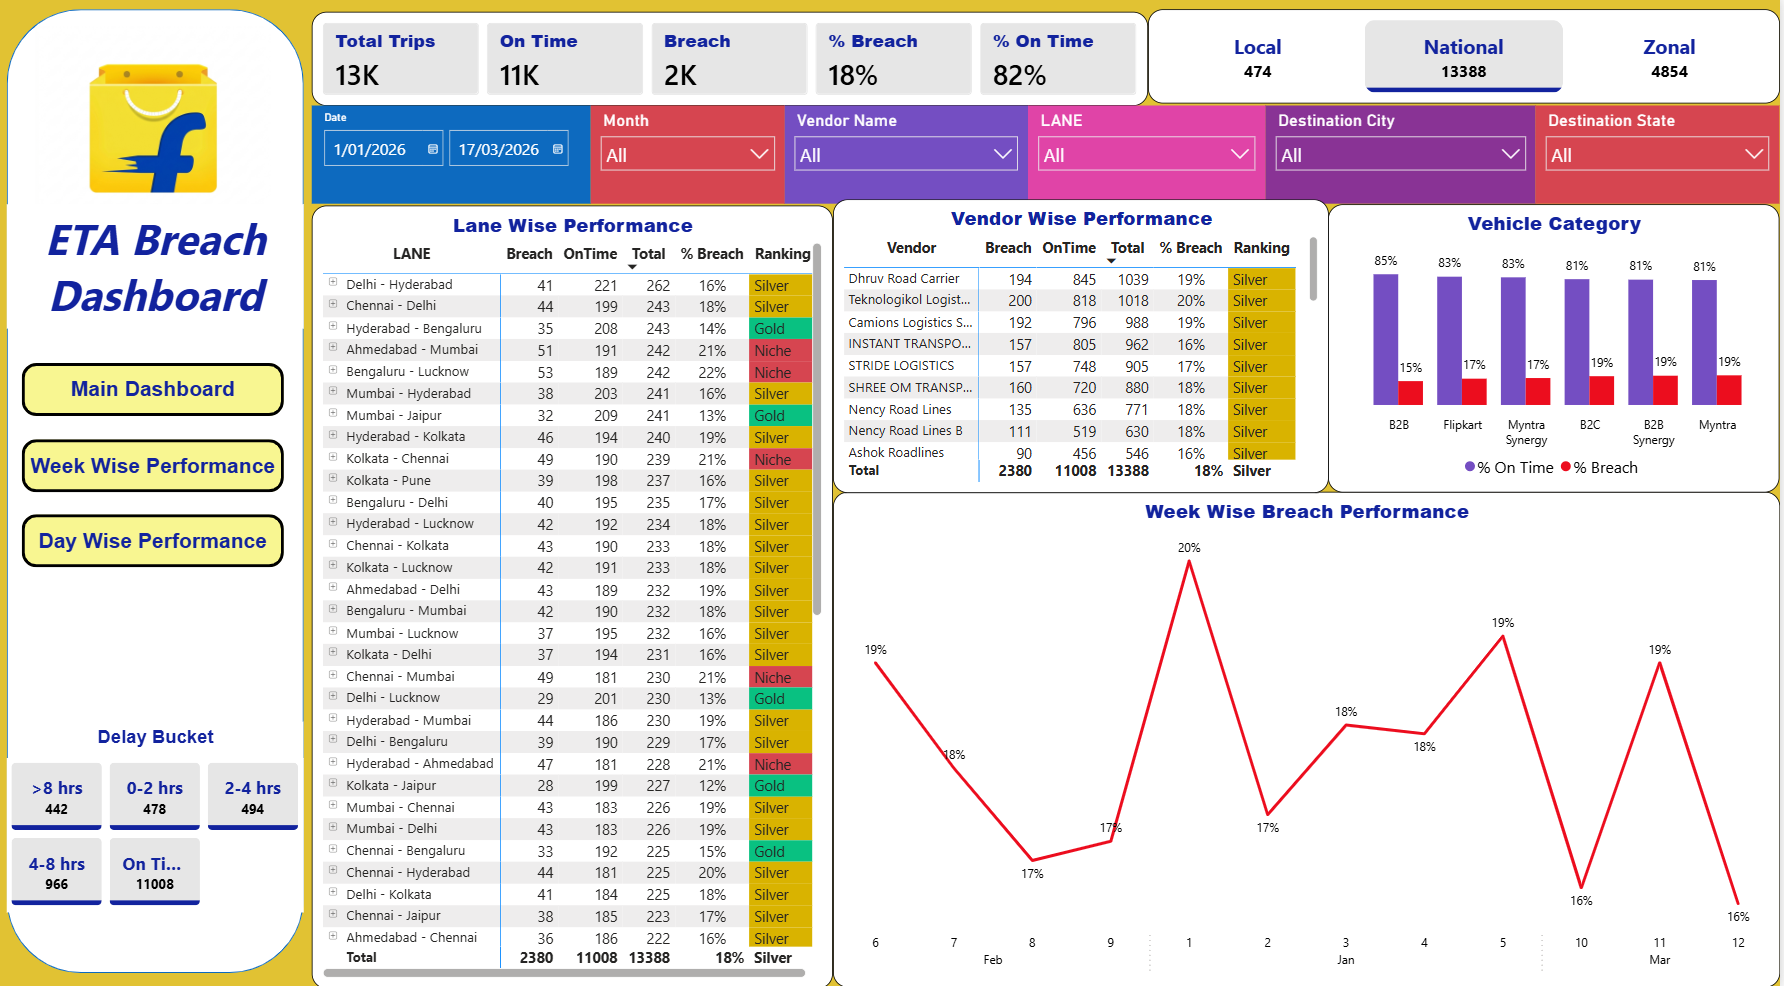

What the dashboard file says about the page in this screenshot:
{"tool":"powerbi","page":{"name":"ETA Breach ","canvas":[1800,1000],"ordinal":0},"visuals":[{"type":"cardVisual","fields":{"Data":["All Measures.Total Trips","All Measures.OnTime Count","All Measures.Breach count","All Measures.% Breach","All Measures.% On Time"]},"box":[316.7,13.4,844.5,95.5],"z":0},{"type":"pivotTable","title":"Vendor Wise Performance","fields":{"Values":["All Measures.Breach count","All Measures.OnTime Count","CountNonNull(ETA Raw Data.Trip ID)","All Measures.% Breach","All Measures.Ranking"],"Rows":["ETA Raw Data.Vendor "]},"box":[861.3,460.8,467.5,539.5],"z":1000},{"type":"pivotTable","title":"Lane Wise Performance","fields":{"Values":["All Measures.Breach count","All Measures.OnTime Count","CountNonNull(ETA Raw Data.Trip ID)","All Measures.% Breach","All Measures.Ranking"],"Rows":["ETA Raw Data.lane -1","ETA Raw Data.Vendor "]},"box":[316.7,460.8,541.2,539.5],"z":2000},{"type":"columnChart","title":"Month Wise Performance","fields":{"Category":["Calendar.Date.Variation.Date Hierarchy.Month","Calendar.Date.Variation.Date Hierarchy.Year"],"Y":["All Measures.% On Time","All Measures.% Breach"]},"box":[316.7,207.8,541.2,253],"z":3000},{"type":"shape","box":[8.4,11.7,299.9,973.5],"z":4000},{"type":"image","box":[0,28.5,313.3,237.9],"z":5000},{"type":"actionButton","box":[31.8,407.2,258,53.6],"z":6000},{"type":"textbox","box":[8.4,207.8,299.9,125.7],"z":7000},{"type":"advancedSlicerVisual","title":"Zone Performance","fields":{"Label":["CountNonNull(ETA Raw Data.Trip ID)"],"Values":["ETA Raw Data.LZN"]},"box":[1161.2,11.7,638.4,95.5],"z":8000},{"type":"advancedSlicerVisual","title":"Zone Performance","fields":{"Label":["CountNonNull(ETA Raw Data.Trip ID)"],"Values":["ETA Raw Data.Delay Bucket"]},"box":[8.4,767.4,299.9,155.8],"z":9000},{"type":"slicer","title":"Zone Performance","fields":{"Values":["ETA Raw Data.Vendor Name"]},"box":[794.2,108.9,246.3,98.9],"z":10000},{"type":"slicer","title":"Zone Performance","fields":{"Values":["ETA Raw Data.lane -1"]},"box":[1040.6,108.9,239.6,98.9],"z":11000},{"type":"slicer","title":"Zone Performance","fields":{"Values":["ETA Raw Data.Destination"]},"box":[1280.2,108.9,273.1,98.9],"z":12000},{"type":"slicer","title":"Zone Performance","fields":{"Values":["ETA Raw Data.Month_Year"]},"box":[598.2,108.9,196,98.9],"z":13000},{"type":"lineChart","title":"Week Wise Breach Trend","fields":{"Category":["Calendar.Date.Variation.Date Hierarchy.Month","Calendar.Date.Variation.Date Hierarchy.Year","ETA Raw Data.Week Number"],"Y":["All Measures.% Breach"]},"box":[857.9,207.8,941.7,253],"z":14000},{"type":"clusteredColumnChart","title":"Destination Zone","fields":{"Category":["ETA Raw Data.Destination Zone"],"Y":["All Measures.% On Time","All Measures.% Breach"]},"box":[1328.8,730.6,470.8,269.8],"z":15000},{"type":"slicer","title":"Zone Performance","fields":{"Values":["Calendar.Date"]},"box":[316.7,108.9,281.5,98.9],"z":16000},{"type":"slicer","title":"Zone Performance","fields":{"Values":["ETA Raw Data.Destination State"]},"box":[1553.3,108.9,246.3,98.9],"z":17000},{"type":"clusteredColumnChart","title":"Vehicle Category","fields":{"Category":["ETA Raw Data.Vehicle Category"],"Y":["All Measures.% On Time","All Measures.% Breach"]},"box":[1328.8,460.8,470.8,269.8],"z":18000},{"type":"textbox","box":[10.1,730.6,298.3,36.9],"z":19000},{"type":"actionButton","box":[31.8,472.5,258,53.6],"z":20000}]}

Visuals, with their boxes in screenshot pixels (x1, y1, x2, y2), scaled from the page's 1800x1000 canvas onto the 1784x986 screenshot:
cardVisual - All Measures.Total Trips x All Measures.OnTime Count: x1=314, y1=13, x2=1151, y2=107
"Vendor Wise Performance" pivotTable: x1=854, y1=454, x2=1317, y2=985
"Lane Wise Performance" pivotTable: x1=314, y1=454, x2=850, y2=985
"Month Wise Performance" columnChart: x1=314, y1=205, x2=850, y2=454
shape: x1=8, y1=12, x2=306, y2=971
image: x1=0, y1=28, x2=311, y2=263
actionButton: x1=32, y1=401, x2=287, y2=454
textbox: x1=8, y1=205, x2=306, y2=329
"Zone Performance" advancedSlicerVisual: x1=1151, y1=12, x2=1783, y2=106
"Zone Performance" advancedSlicerVisual: x1=8, y1=757, x2=306, y2=910
"Zone Performance" slicer: x1=787, y1=107, x2=1031, y2=205
"Zone Performance" slicer: x1=1031, y1=107, x2=1269, y2=205
"Zone Performance" slicer: x1=1269, y1=107, x2=1539, y2=205
"Zone Performance" slicer: x1=593, y1=107, x2=787, y2=205
"Week Wise Breach Trend" lineChart: x1=850, y1=205, x2=1783, y2=454
"Destination Zone" clusteredColumnChart: x1=1317, y1=720, x2=1783, y2=985
"Zone Performance" slicer: x1=314, y1=107, x2=593, y2=205
"Zone Performance" slicer: x1=1539, y1=107, x2=1783, y2=205
"Vehicle Category" clusteredColumnChart: x1=1317, y1=454, x2=1783, y2=720
textbox: x1=10, y1=720, x2=306, y2=757
actionButton: x1=32, y1=466, x2=287, y2=519
